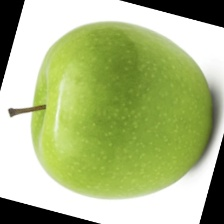apple: (56, 12, 210, 202)
